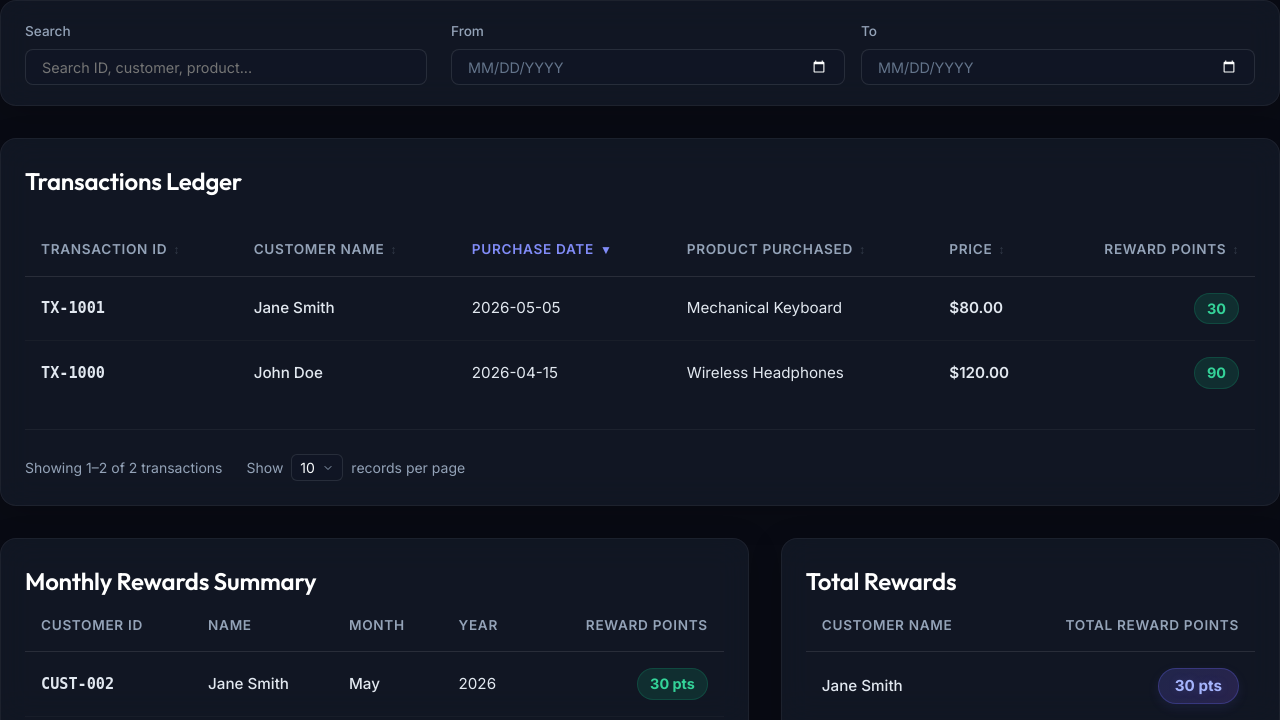
DashboardContent Component › applies search filters on text input change and apply click
Type "wireless" into the field with test id "search-input" at (226, 67), box [25,49,427,85]
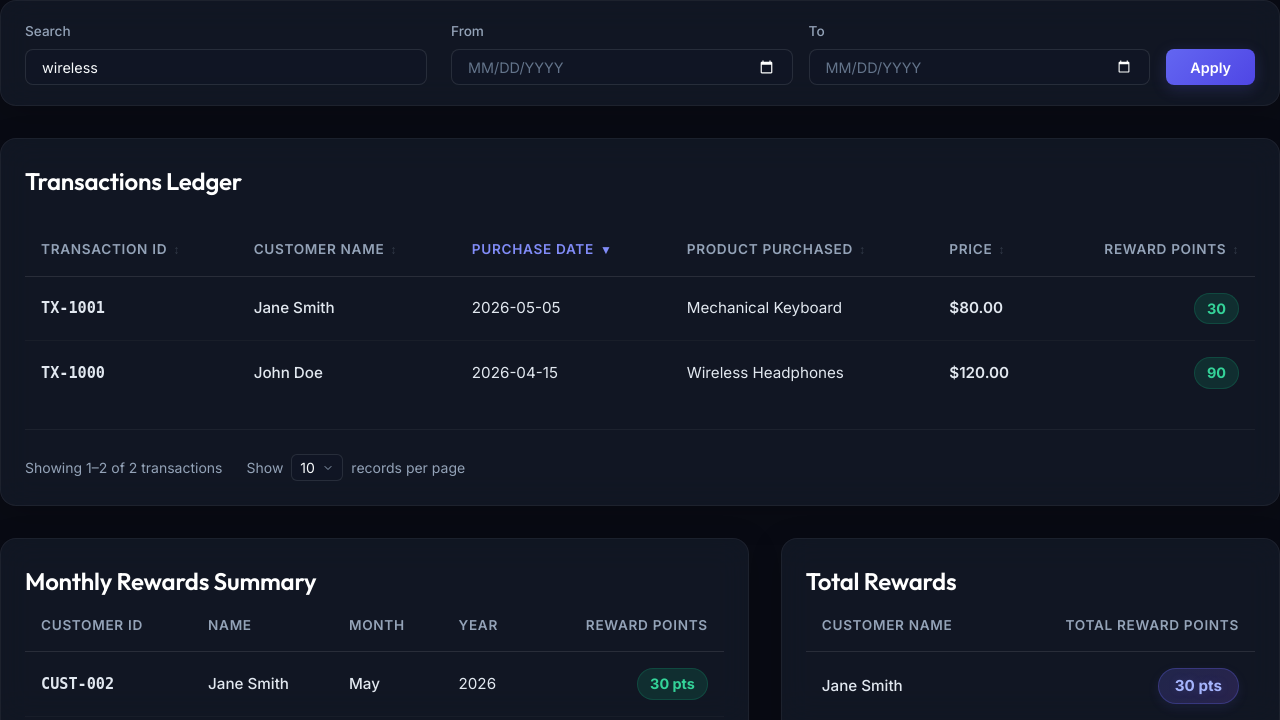
Click the button with test id "apply-filters-btn" at (1211, 67), box [1166,49,1255,85]
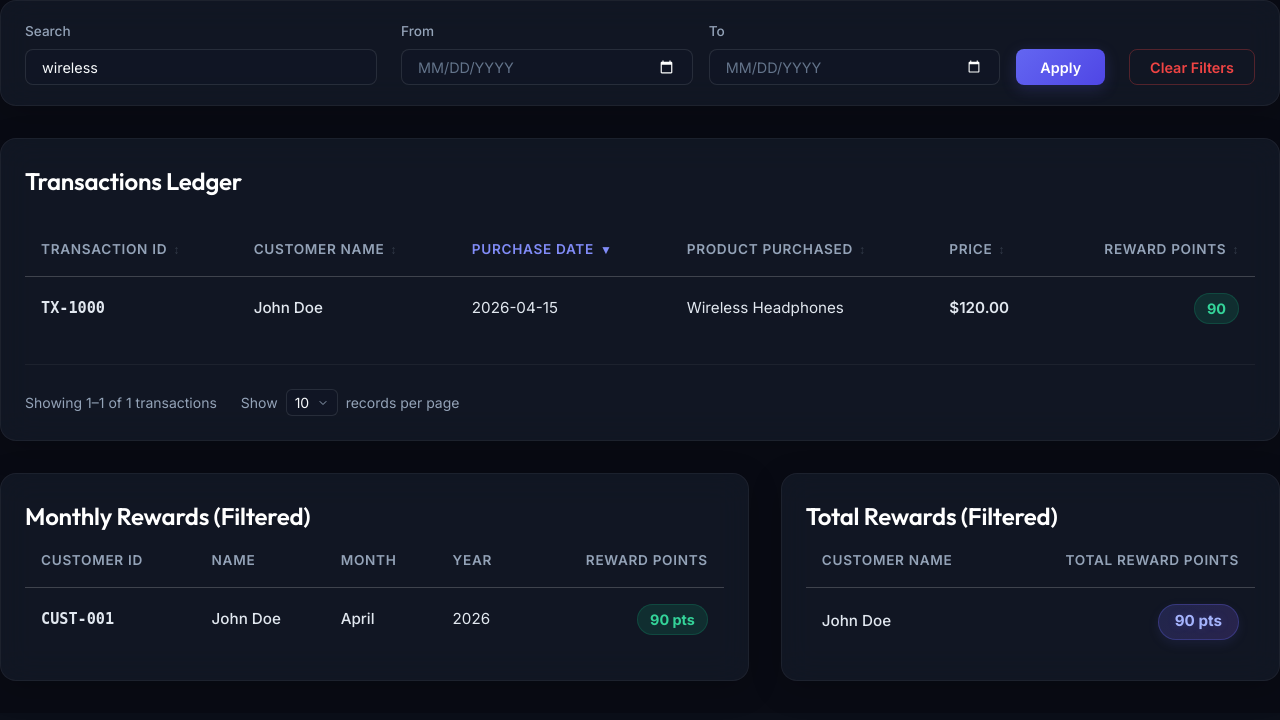
Expected: the text "Wireless Headphones" is shown, [671,276,933,340]
Now the text "Mechanical Keyboard" is gone
